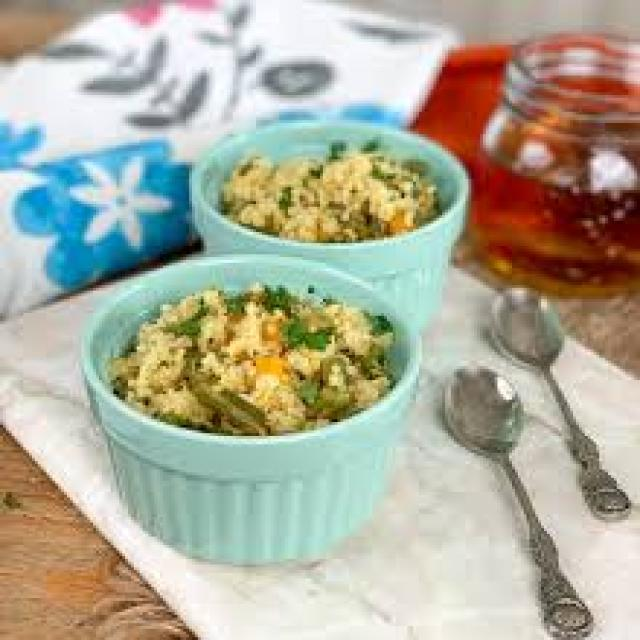POHA: (105, 282, 387, 430), (218, 151, 436, 238)
